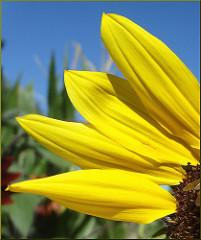sunflower: (11, 10, 201, 240)
